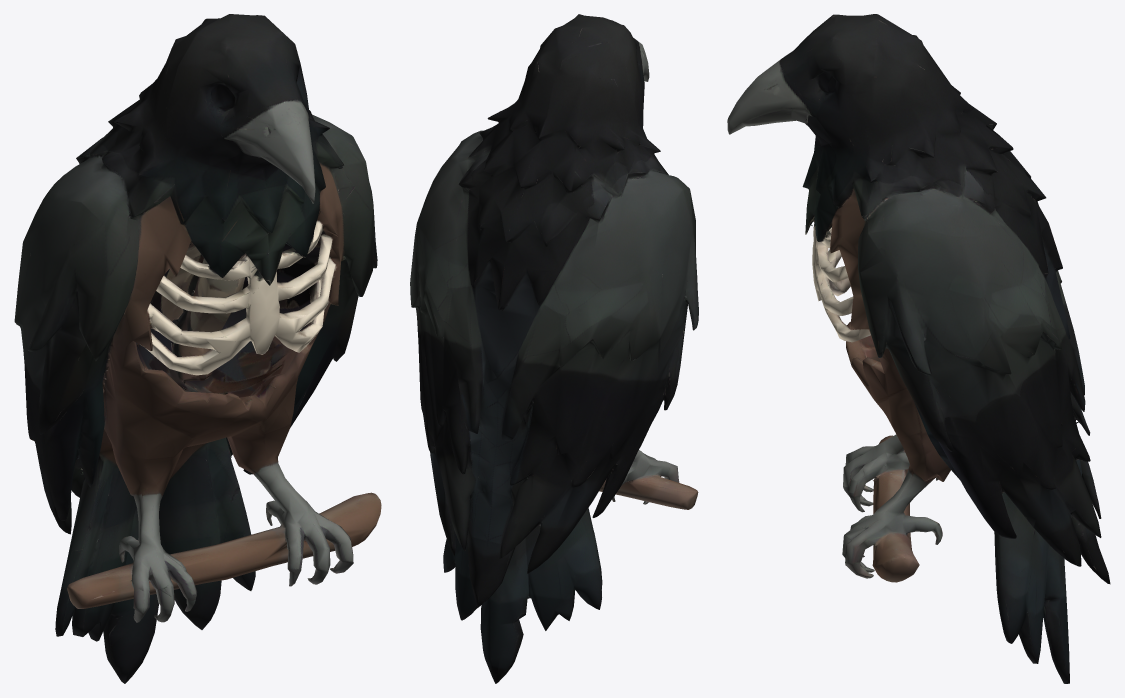
Rendered from mesh_hollow_crow_a.glb.
The picture shows the model from 3 angles, left to right: view 1: azimuth 30°, elevation 25°; view 2: azimuth 150°, elevation 25°; view 3: azimuth 270°, elevation 25°; orthographic projection. The views are drawn at different scales.
Parts seen in each view (by area): view 1: Mesh_0; view 2: Mesh_0; view 3: Mesh_0.
Boxes of the visible parts, <box> form: Mesh_0: <box>14,14,381,683</box>; Mesh_0: <box>410,14,698,683</box>; Mesh_0: <box>727,14,1110,683</box>.
Bounding box in the file's own units: 0.9175 × 1.9 × 0.9917.
1 material, 1 textured.
